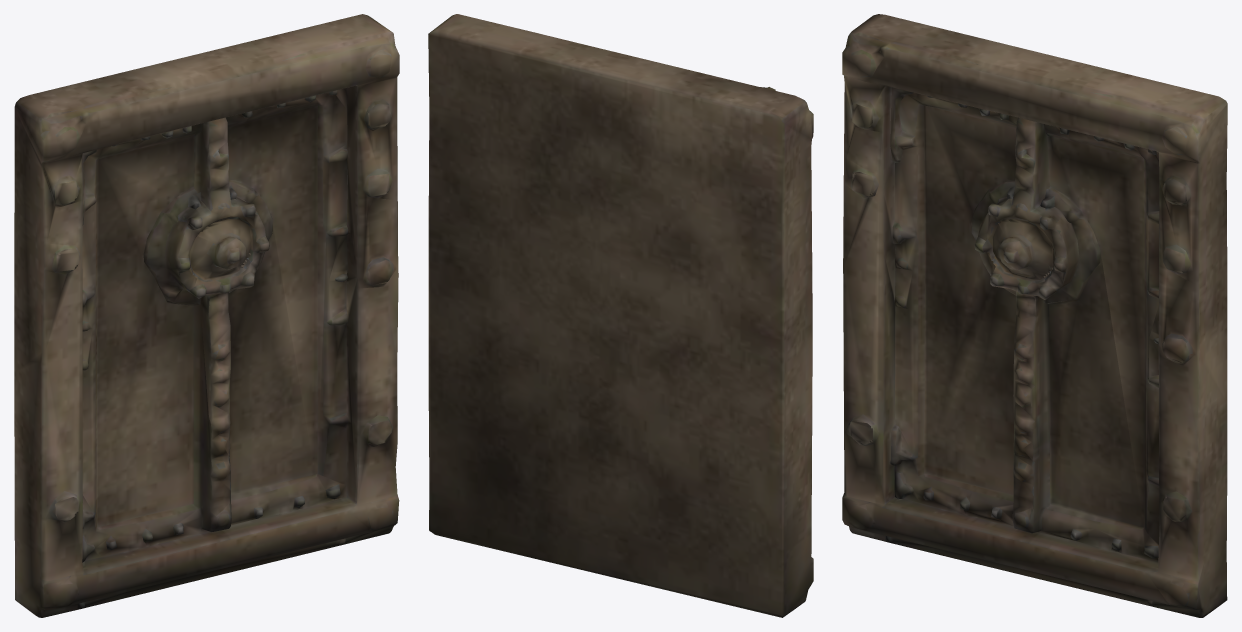
Rendered from ornate-wood-cell-door-v001.glb.
3 views of the same model, side by side, from view 1: azimuth 30°, elevation 25°; view 2: azimuth 150°, elevation 25°; view 3: azimuth 330°, elevation 25° (orthographic).
Parts seen in each view (by area): view 1: ornate-wood-cell-door; view 2: ornate-wood-cell-door; view 3: ornate-wood-cell-door.
Boxes of the visible parts, x1,y1,x2,y2 form: ornate-wood-cell-door: (14, 14, 399, 617); ornate-wood-cell-door: (428, 14, 813, 617); ornate-wood-cell-door: (842, 14, 1227, 617).
Size of the model in its own units: 1.66 by 2.24 by 0.3511.
Materials: 1 (1 with a texture image).
